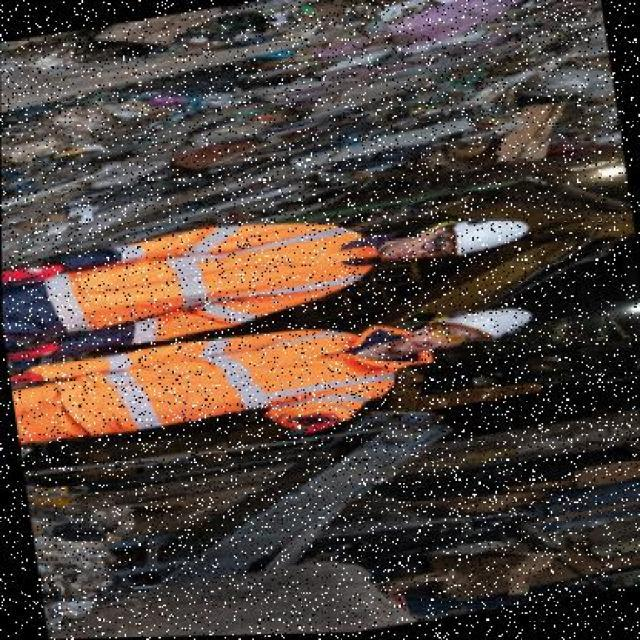helmet: (415, 209, 531, 267), (418, 300, 542, 354)
vest: (2, 205, 396, 358), (8, 311, 382, 450)
